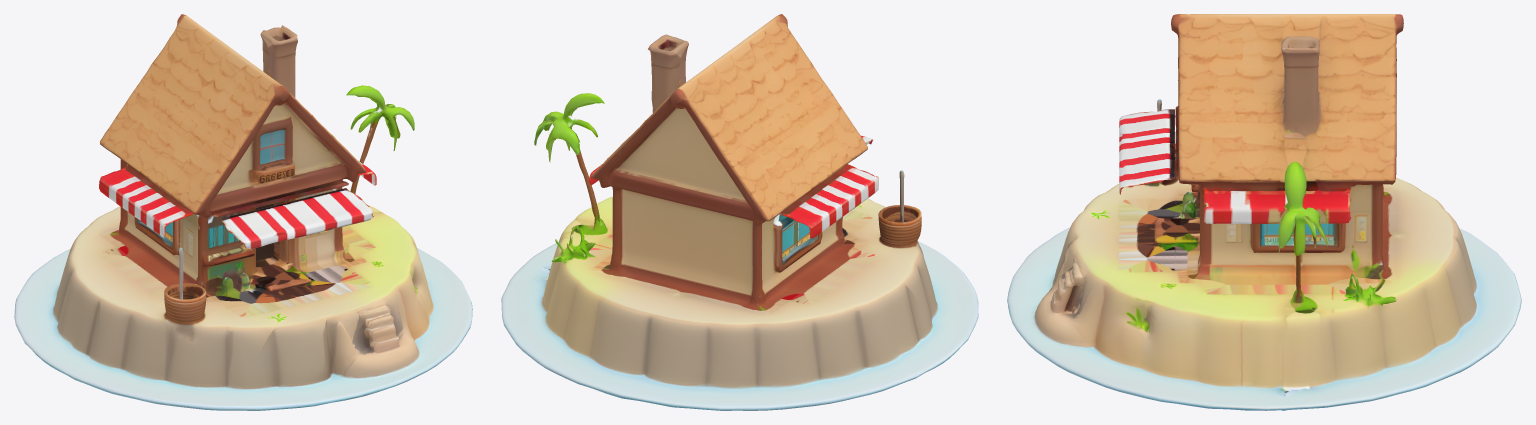
Rendered from Marketplace.glb.
3 views of the same model, side by side, from view 1: azimuth 30°, elevation 25°; view 2: azimuth 150°, elevation 25°; view 3: azimuth 270°, elevation 25° (orthographic). The views are drawn at different scales.
Parts seen in each view (by area): view 1: model; view 2: model; view 3: model.
Boxes of the visible parts, left/top/right/bottom form: model: left=14, top=14, right=472, bottom=410; model: left=501, top=14, right=978, bottom=410; model: left=1007, top=14, right=1521, bottom=410.
Size of the model in its own units: 1.9 by 1.18 by 1.9.
Materials: 1 (1 with a texture image).
